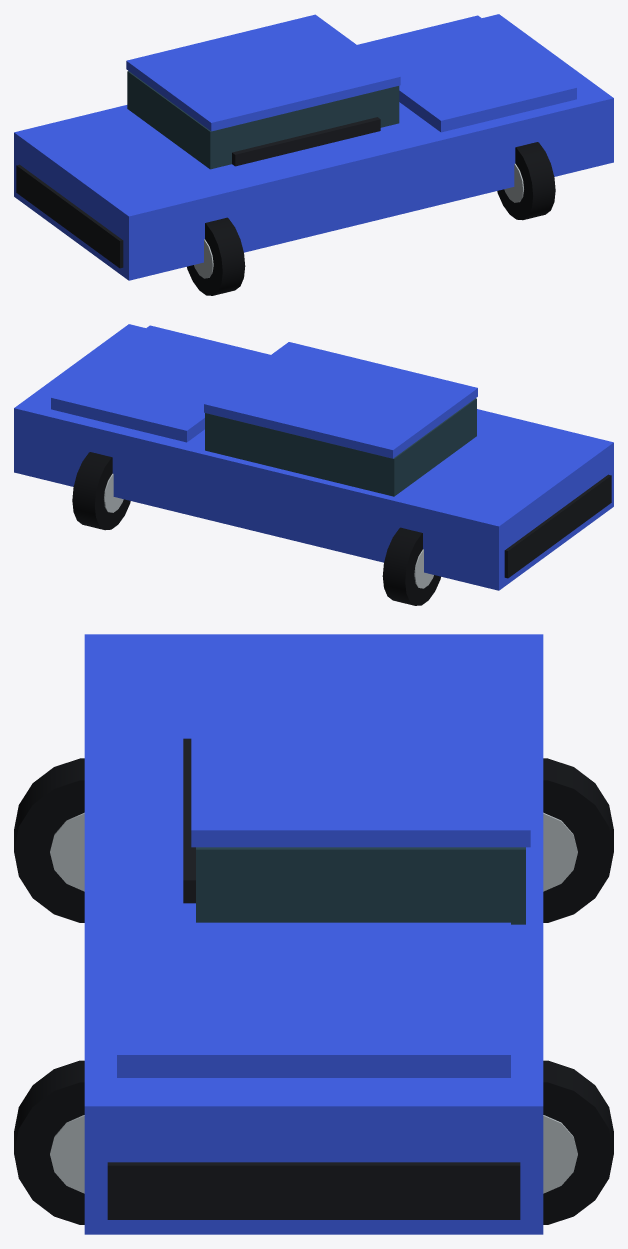
Rendered from chevy_corvette_z06.glb.
3 renders of one model, top to bottom at view 1: azimuth 30°, elevation 25°; view 2: azimuth 150°, elevation 25°; view 3: azimuth 270°, elevation 25°, orthographic. The views are drawn at different scales.
Visible parts, largest first — view 1: body, roof, hood, cabin, rear_bumper, front_right_wheel, rear_right_wheel, interior; view 2: body, roof, hood, cabin, rear_bumper, front_left_wheel, rear_left_wheel; view 3: body, roof, hood, cabin, front_bumper, front_left_wheel, front_right_wheel, rear_left_wheel, rear_right_wheel, interior.
Part boxes in pixels (bbox=[...]): body: bbox=[14, 14, 613, 280]; roof: bbox=[126, 14, 400, 131]; hood: bbox=[357, 15, 576, 132]; cabin: bbox=[127, 71, 399, 169]; rear_bumper: bbox=[16, 164, 123, 268]; front_right_wheel: bbox=[497, 142, 555, 220]; rear_right_wheel: bbox=[187, 217, 245, 295]; interior: bbox=[232, 117, 380, 166]; body: bbox=[14, 324, 613, 590]; roof: bbox=[204, 342, 477, 458]; hood: bbox=[51, 325, 270, 442]; cabin: bbox=[205, 398, 476, 496]; rear_bumper: bbox=[504, 474, 611, 578]; front_left_wheel: bbox=[72, 452, 130, 530]; rear_left_wheel: bbox=[382, 527, 440, 605]; body: bbox=[84, 634, 543, 1234]; roof: bbox=[191, 646, 530, 847]; hood: bbox=[117, 922, 510, 1077]; cabin: bbox=[196, 847, 525, 924]; front_bumper: bbox=[107, 1162, 520, 1219]; front_left_wheel: bbox=[543, 1060, 613, 1224]; front_right_wheel: bbox=[14, 1060, 84, 1224]; rear_left_wheel: bbox=[543, 758, 613, 922]; rear_right_wheel: bbox=[14, 758, 84, 922]; interior: bbox=[183, 738, 195, 903].
Bounding box in the file's own units: 4.81 × 1.35 × 2.55.
